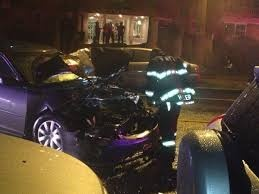Smashed: (54, 86, 160, 159)
